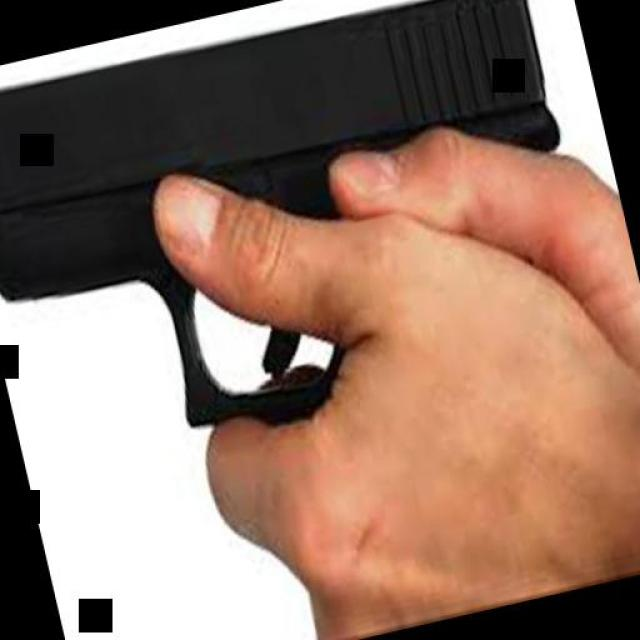gun: (0, 0, 611, 481)
